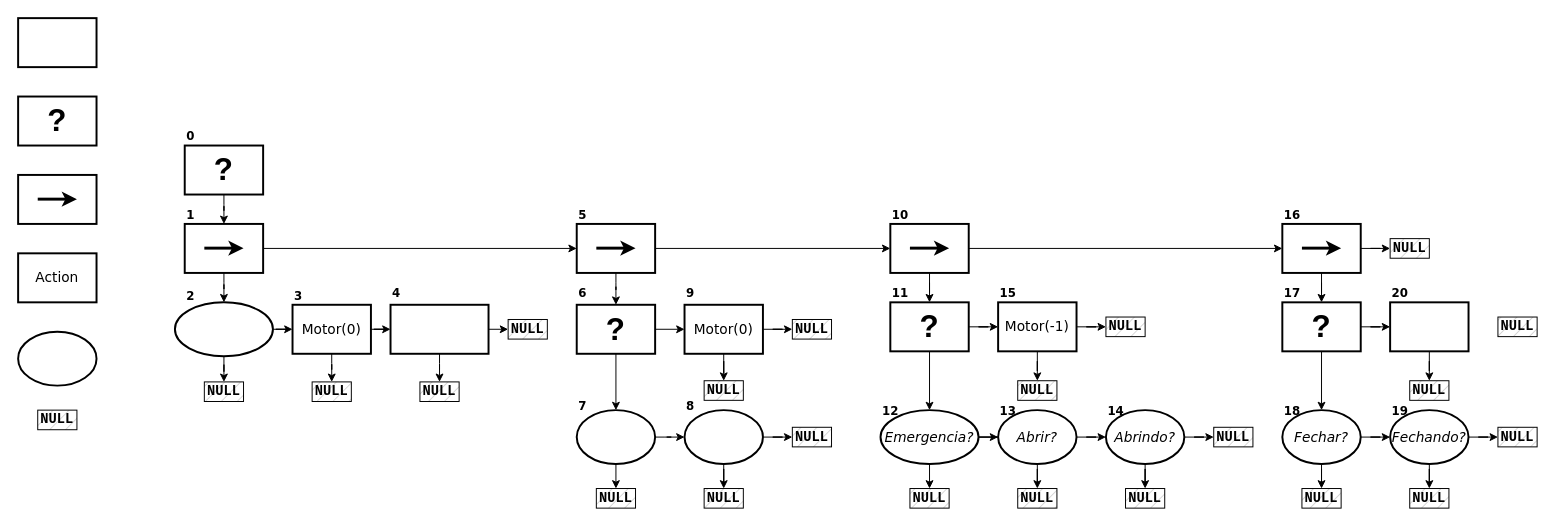
Some shapes in this 1554 by 525 pixel diagram are drawn without their labels. The shapes that lost their labels are listed below. From the top down, each one's centre as x and y in pixels, then its label:
point (223, 329): Bt_Emerg?
point (439, 328): Emergencia()
point (1429, 326): Motor(1)
point (57, 358): Condition
point (615, 437): Aberta?
point (723, 437): Fechada?
